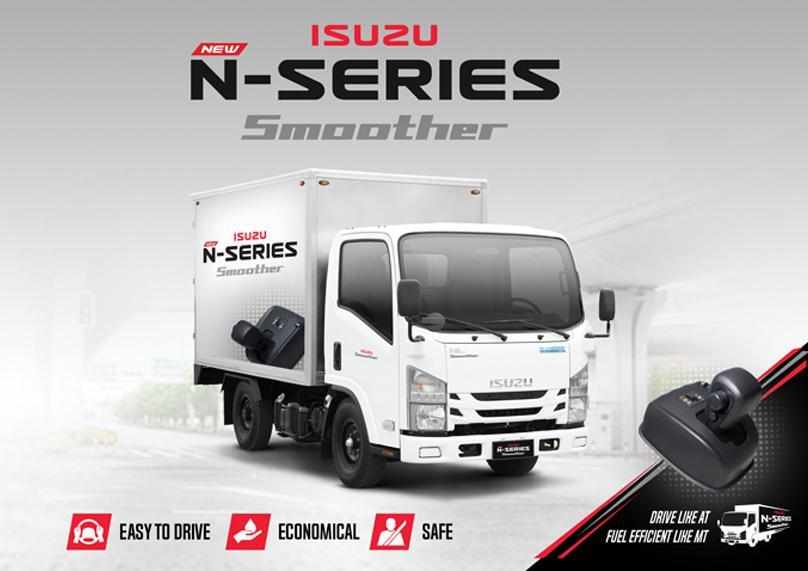truck: (189, 169, 617, 489)
